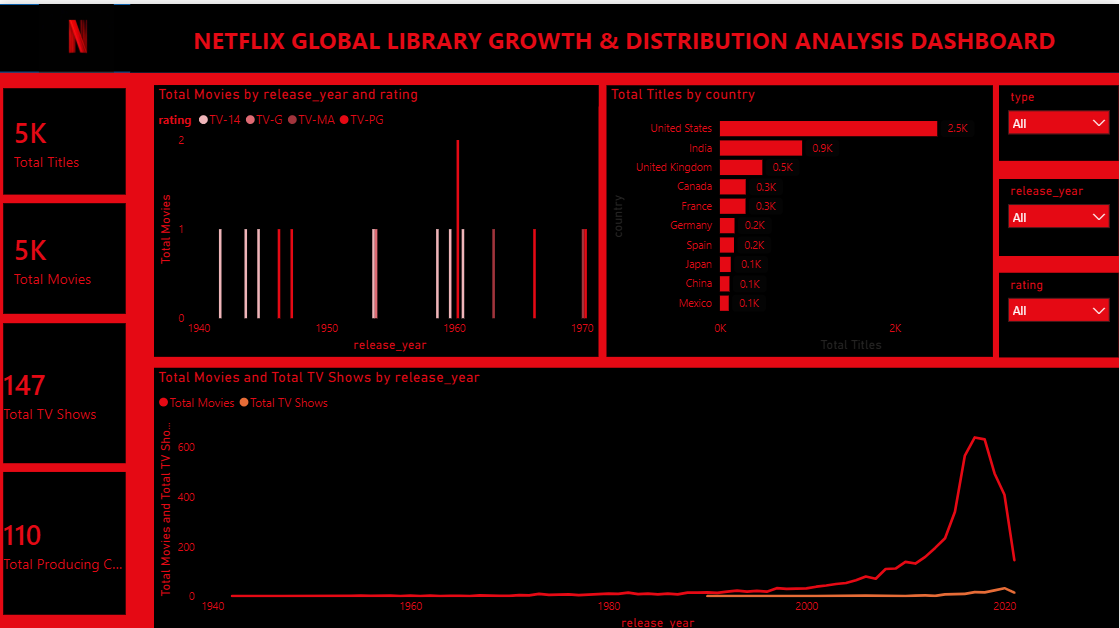

Layout of this report page (visuals, bound fields, positions):
{"tool":"powerbi","page":{"name":"Page 1","canvas":[1280,720],"ordinal":0},"visuals":[{"type":"shape","box":[0,0,1280,78.3],"z":0},{"type":"image","box":[0,0,176.7,78.3],"z":1000},{"type":"clusteredBarChart","fields":{"Y":["netflix_titles.Total Titles"],"Category":["netflix_titles.country"]},"box":[695,93.3,441.7,310],"z":2000},{"type":"lineChart","fields":{"Category":["netflix_titles.release_year"],"Y":["netflix_titles.Total Movies","netflix_titles.Total TV Shows"]},"box":[176.7,415,1103.3,305],"z":3000},{"type":"clusteredColumnChart","fields":{"Category":["netflix_titles.release_year"],"Y":["netflix_titles.Total Movies"],"Series":["netflix_titles.rating"]},"box":[176.7,93.3,508.3,310],"z":4000},{"type":"slicer","fields":{"Values":["netflix_titles.type"]},"box":[1143.3,93.3,136.7,86.7],"z":5000},{"type":"slicer","fields":{"Values":["netflix_titles.release_year"]},"box":[1143.3,200,136.7,88.3],"z":6000},{"type":"slicer","fields":{"Values":["netflix_titles.rating"]},"box":[1143.3,306.7,136.7,96.7],"z":7000},{"type":"cardVisual","fields":{"Data":["netflix_titles.Total Movies"]},"box":[0,223.3,150,136.7],"z":8000},{"type":"cardVisual","fields":{"Data":["netflix_titles.Total TV Shows"]},"box":[0,360,150,170],"z":9000},{"type":"cardVisual","fields":{"Data":["netflix_titles.Total Titles"]},"box":[0,91.7,150,131.7],"z":10000},{"type":"cardVisual","fields":{"Data":["netflix_titles.Total Producing Countries"]},"box":[0,530,150,173.3],"z":11000},{"type":"textbox","box":[150,0,1130,78.6],"z":12000}]}

Visuals, with their boxes in screenshot pixels (x1, y1, x2, y2), scaled from the page's 1280x720 canvas onto the 1120x628 screenshot:
shape: {"x1": 0, "y1": 0, "x2": 1119, "y2": 68}
image: {"x1": 0, "y1": 0, "x2": 155, "y2": 68}
clusteredBarChart - netflix_titles.Total Titles x netflix_titles.country: {"x1": 608, "y1": 81, "x2": 995, "y2": 352}
lineChart - netflix_titles.release_year x netflix_titles.Total Movies: {"x1": 155, "y1": 362, "x2": 1119, "y2": 627}
clusteredColumnChart - netflix_titles.release_year x netflix_titles.Total Movies: {"x1": 155, "y1": 81, "x2": 599, "y2": 352}
slicer - netflix_titles.type: {"x1": 1000, "y1": 81, "x2": 1119, "y2": 157}
slicer - netflix_titles.release_year: {"x1": 1000, "y1": 174, "x2": 1119, "y2": 251}
slicer - netflix_titles.rating: {"x1": 1000, "y1": 268, "x2": 1119, "y2": 352}
cardVisual - netflix_titles.Total Movies: {"x1": 0, "y1": 195, "x2": 131, "y2": 314}
cardVisual - netflix_titles.Total TV Shows: {"x1": 0, "y1": 314, "x2": 131, "y2": 462}
cardVisual - netflix_titles.Total Titles: {"x1": 0, "y1": 80, "x2": 131, "y2": 195}
cardVisual - netflix_titles.Total Producing Countries: {"x1": 0, "y1": 462, "x2": 131, "y2": 613}
textbox: {"x1": 131, "y1": 0, "x2": 1119, "y2": 69}
